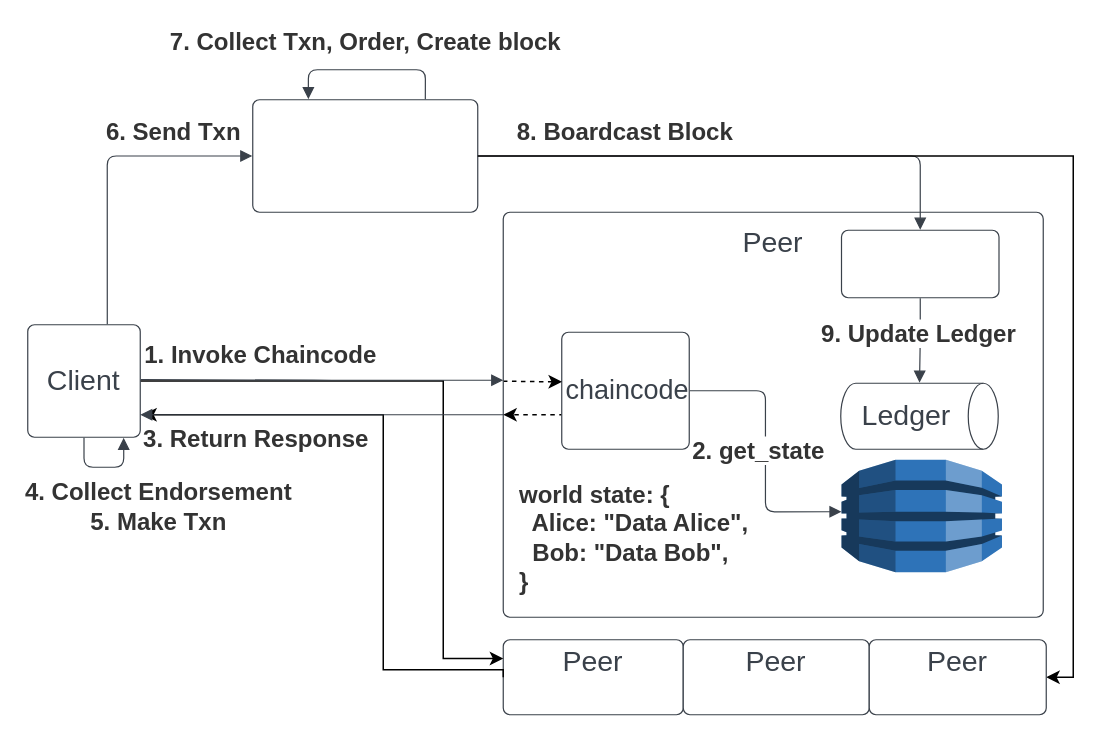
The diagram is 1113 pixels wide and 741 high, and some of its shapes have lost their labels. Here are the shapes that lost their labels. From the top down, the centre of each, then its label:
(364,155): Ordering Service
(919,263): Block & Txn Validator
(921,515): world state
